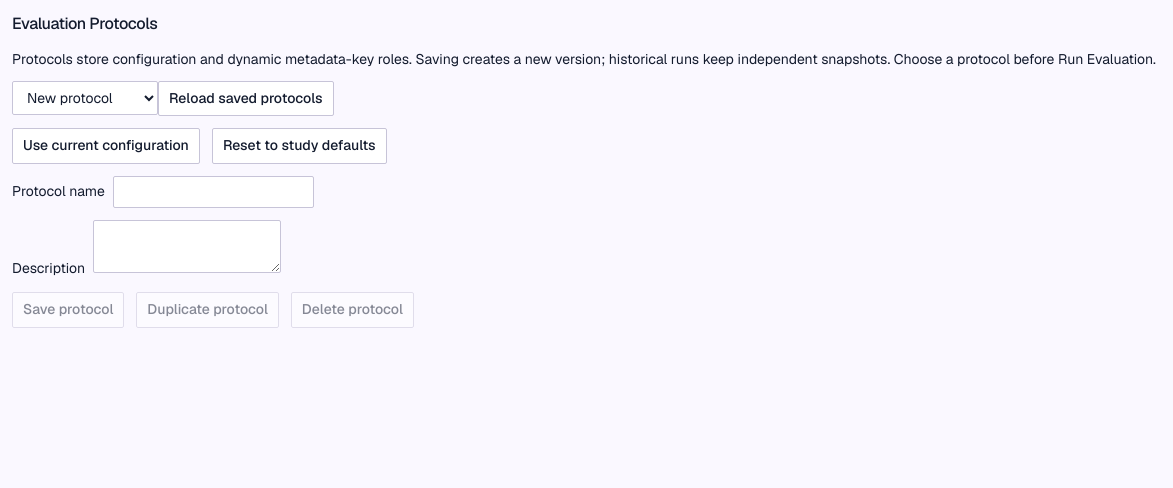
Test: protocol duplicate and reset defaults
The width and height of the screenshot is (1173, 488).
Select "Protocol Ω — v2" in the dropdown named "Saved protocol" at coordinates (85, 98), box [12,81,158,115]
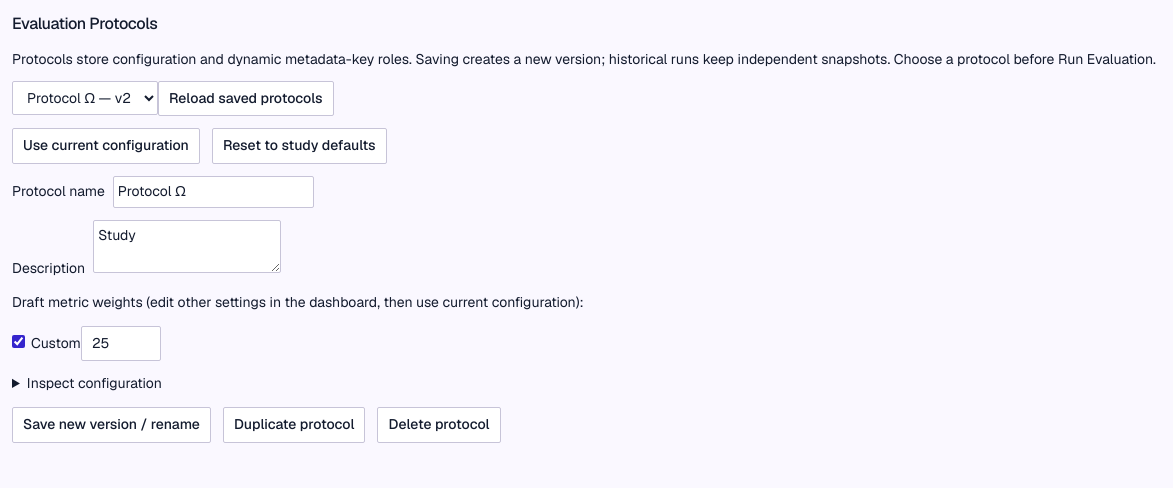
Click the button "Duplicate protocol" at coordinates (294, 425), box [223,407,365,443]
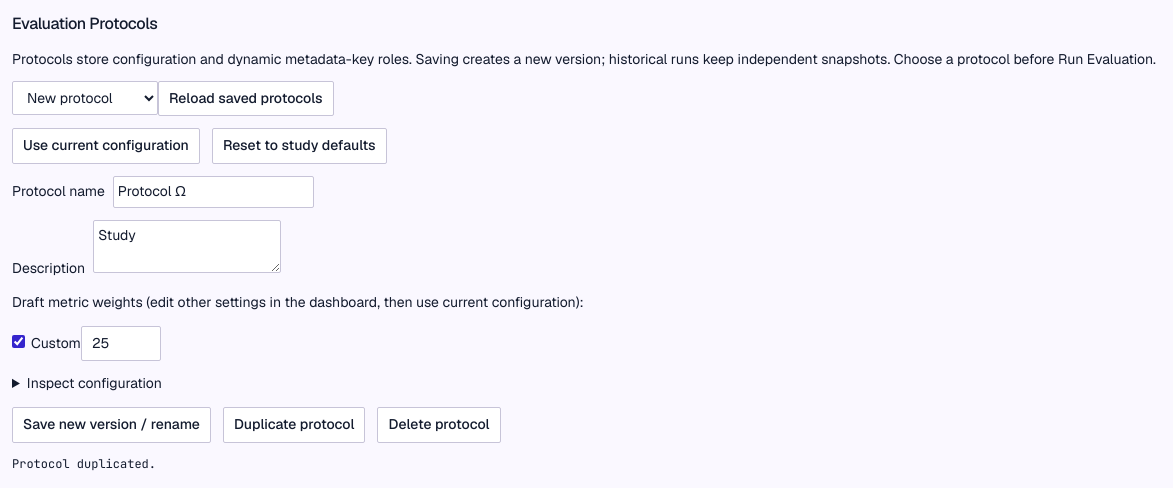
Check: the text "Protocol duplicated." is shown, box [12,456,156,472]
Click the button "Reset to study defaults" at coordinates (299, 146), box [212,128,386,164]
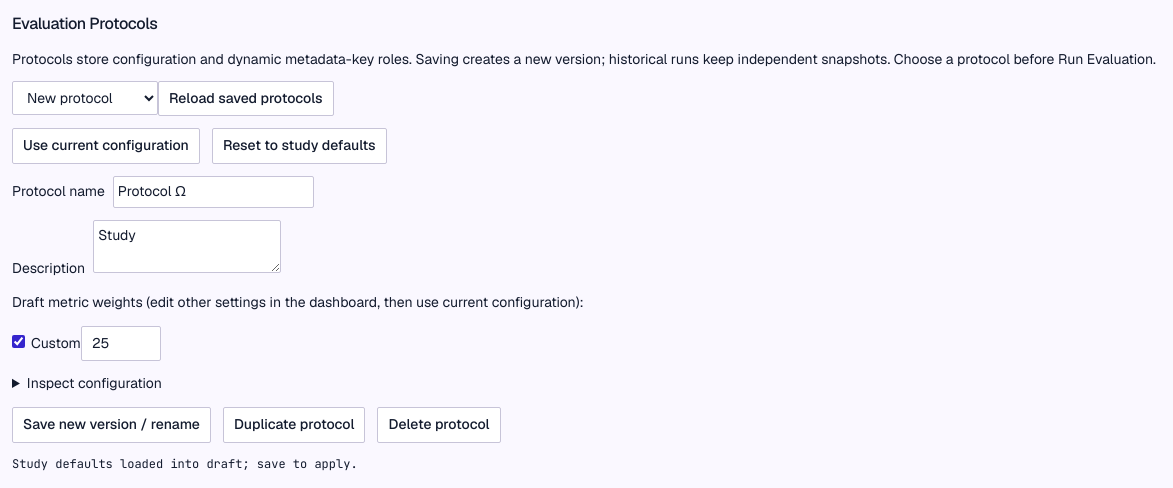
Check: the text "Study defaults loaded into draft; save to apply." is shown, box [12,456,358,472]
